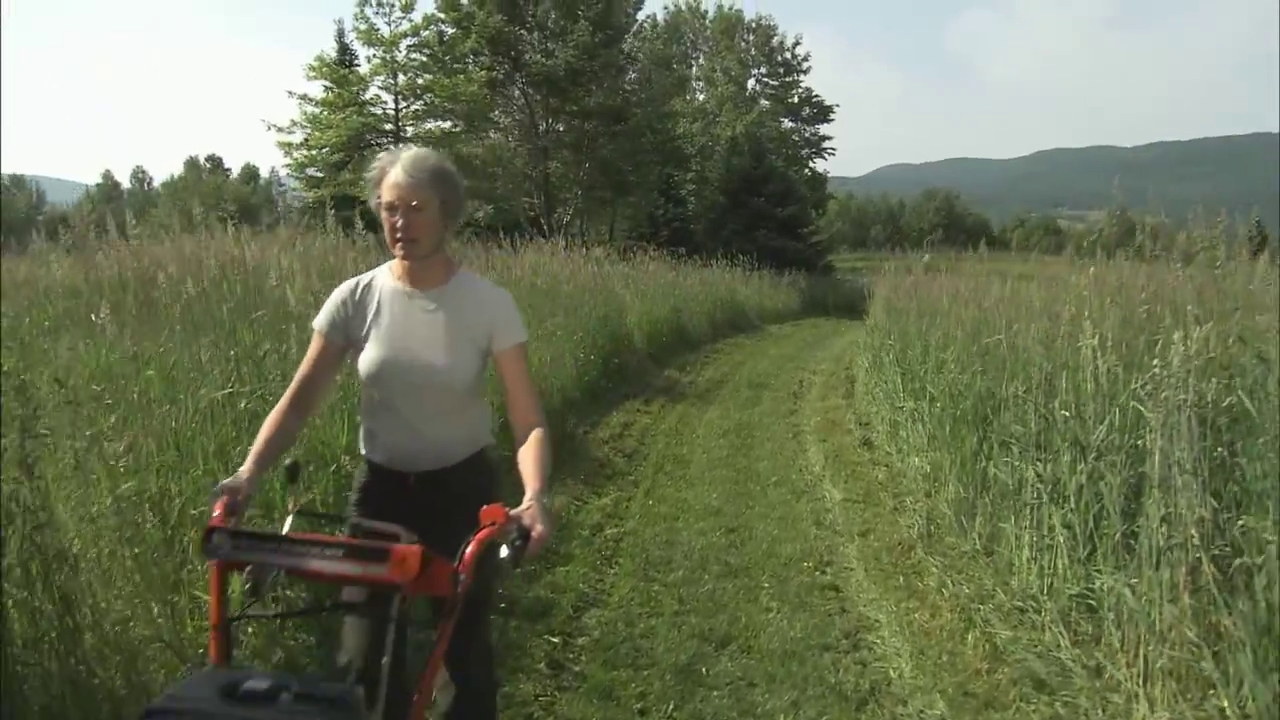person: (210, 144, 554, 720)
